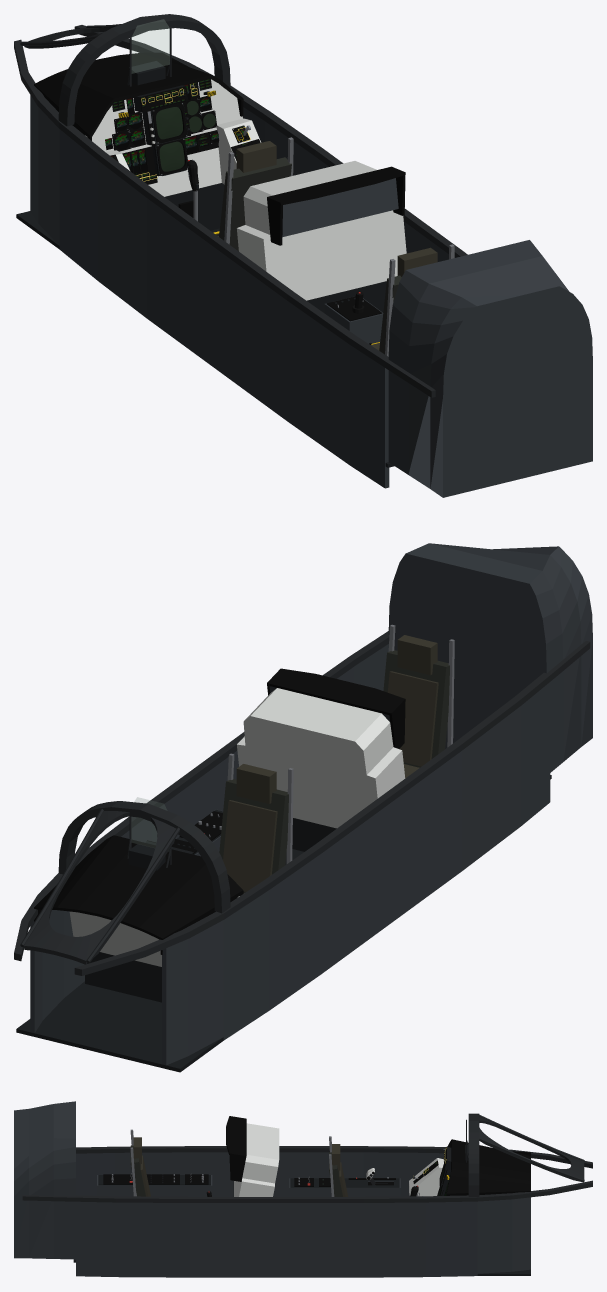
File: cockpit_f14.glb
The picture shows the model from 3 angles, top to bottom: view 1: azimuth 30°, elevation 25°; view 2: azimuth 150°, elevation 25°; view 3: azimuth 270°, elevation 25°; orthographic projection. The views are drawn at different scales.
Visible parts, largest first — view 1: panel_grey, panel_grey.002, panel_light.001, frame, black, frame.002, panel_grey.003, panel_light, frame.001, panel_grey.001, seat_95, black.005 (+12 smaller); view 2: panel_grey, panel_grey.002, panel_light.001, black, dark, panel_grey.001, frame, cushion_96, frame.011, frame.002, frame.001, cushion_96.001 (+9 smaller); view 3: panel_grey.001, panel_grey.002, panel_grey, frame.001, black, panel_light.001, frame, panel_grey.010, frame.011, frame.002, panel_grey.005, black.005 (+8 smaller).
Part boxes in pixels (bbox=[...]): panel_grey: bbox=[30, 95, 389, 488]; panel_grey.002: bbox=[388, 240, 592, 497]; panel_light.001: bbox=[236, 161, 406, 300]; frame: bbox=[14, 39, 435, 397]; black: bbox=[34, 52, 243, 139]; frame.002: bbox=[58, 14, 230, 126]; panel_grey.003: bbox=[282, 178, 398, 237]; panel_light: bbox=[85, 79, 242, 196]; frame.001: bbox=[74, 25, 467, 257]; panel_grey.001: bbox=[242, 107, 448, 261]; seat_95: bbox=[219, 157, 291, 251]; black.005: bbox=[267, 166, 405, 205]; panel_grey: bbox=[162, 682, 550, 1065]; panel_grey.002: bbox=[388, 543, 592, 772]; panel_light.001: bbox=[237, 688, 405, 828]; black: bbox=[34, 835, 243, 939]; dark: bbox=[16, 981, 223, 1072]; panel_grey.001: bbox=[30, 644, 388, 1036]; frame: bbox=[74, 641, 590, 975]; cushion_96: bbox=[223, 800, 277, 891]; frame.011: bbox=[24, 811, 175, 964]; frame.002: bbox=[58, 801, 230, 913]; frame.001: bbox=[14, 631, 389, 961]; cushion_96.001: bbox=[387, 671, 438, 766]; panel_grey.001: bbox=[76, 1197, 530, 1277]; panel_grey.002: bbox=[14, 1101, 75, 1259]; panel_grey: bbox=[76, 1152, 444, 1196]; frame.001: bbox=[22, 1180, 592, 1202]; black: bbox=[446, 1139, 530, 1195]; panel_light.001: bbox=[234, 1123, 279, 1196]; frame: bbox=[76, 1146, 592, 1168]; panel_grey.010: bbox=[97, 1175, 212, 1196]; frame.011: bbox=[479, 1116, 584, 1182]; frame.002: bbox=[468, 1113, 479, 1196]; panel_grey.005: bbox=[289, 1185, 400, 1196]; black.005: bbox=[226, 1116, 246, 1157].
Size of the model in its own units: 1.01 by 1.17 by 4.67.
Materials: 26 (1 with a texture image).
